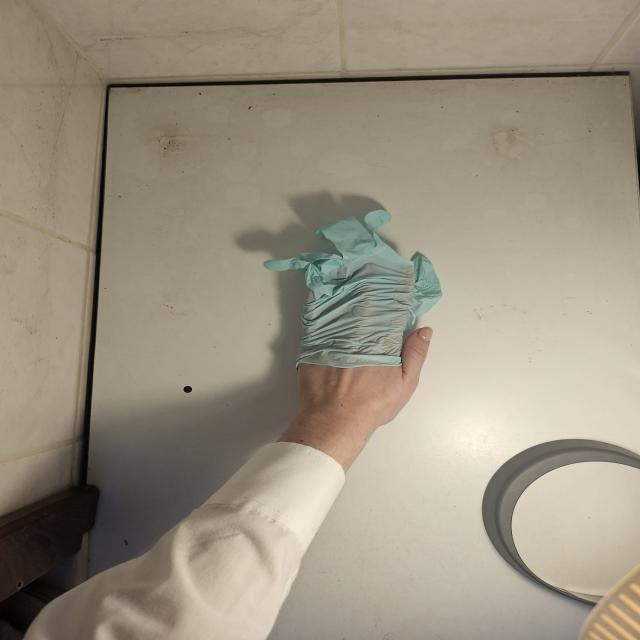glove_partial: (260, 208, 445, 419)
